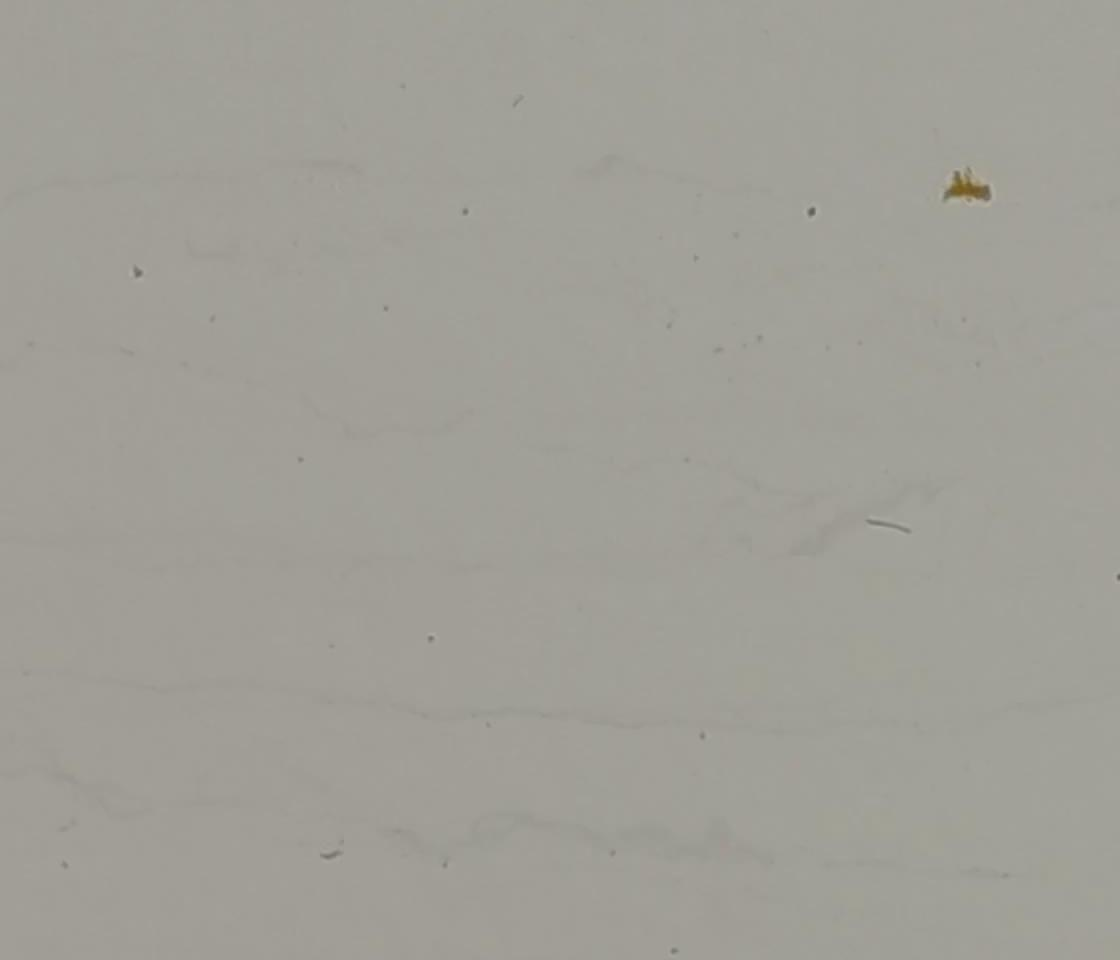rust: (937, 167, 993, 205)
